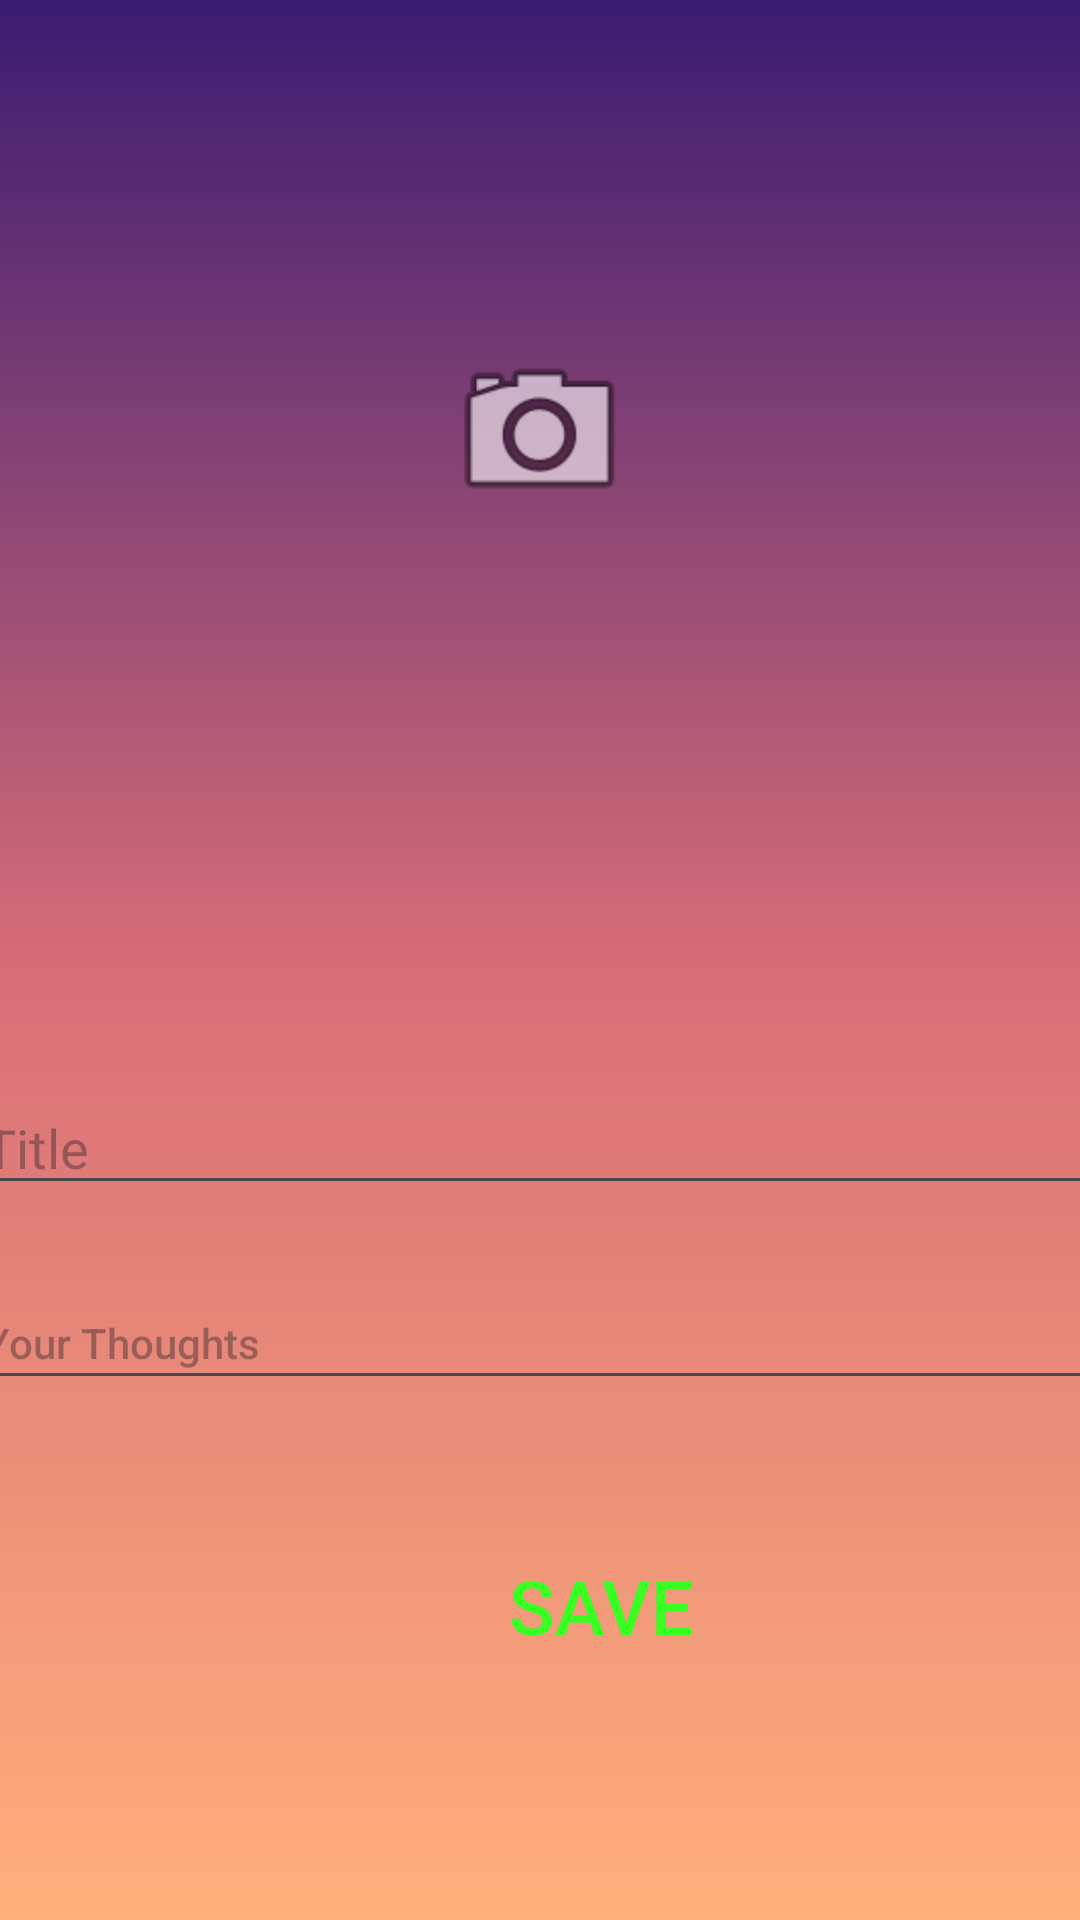

Screen size 1080 × 1920. Icon name, then its box in pixels as [x1,y1,x2,y2]:
camera: [465,369,614,488]
